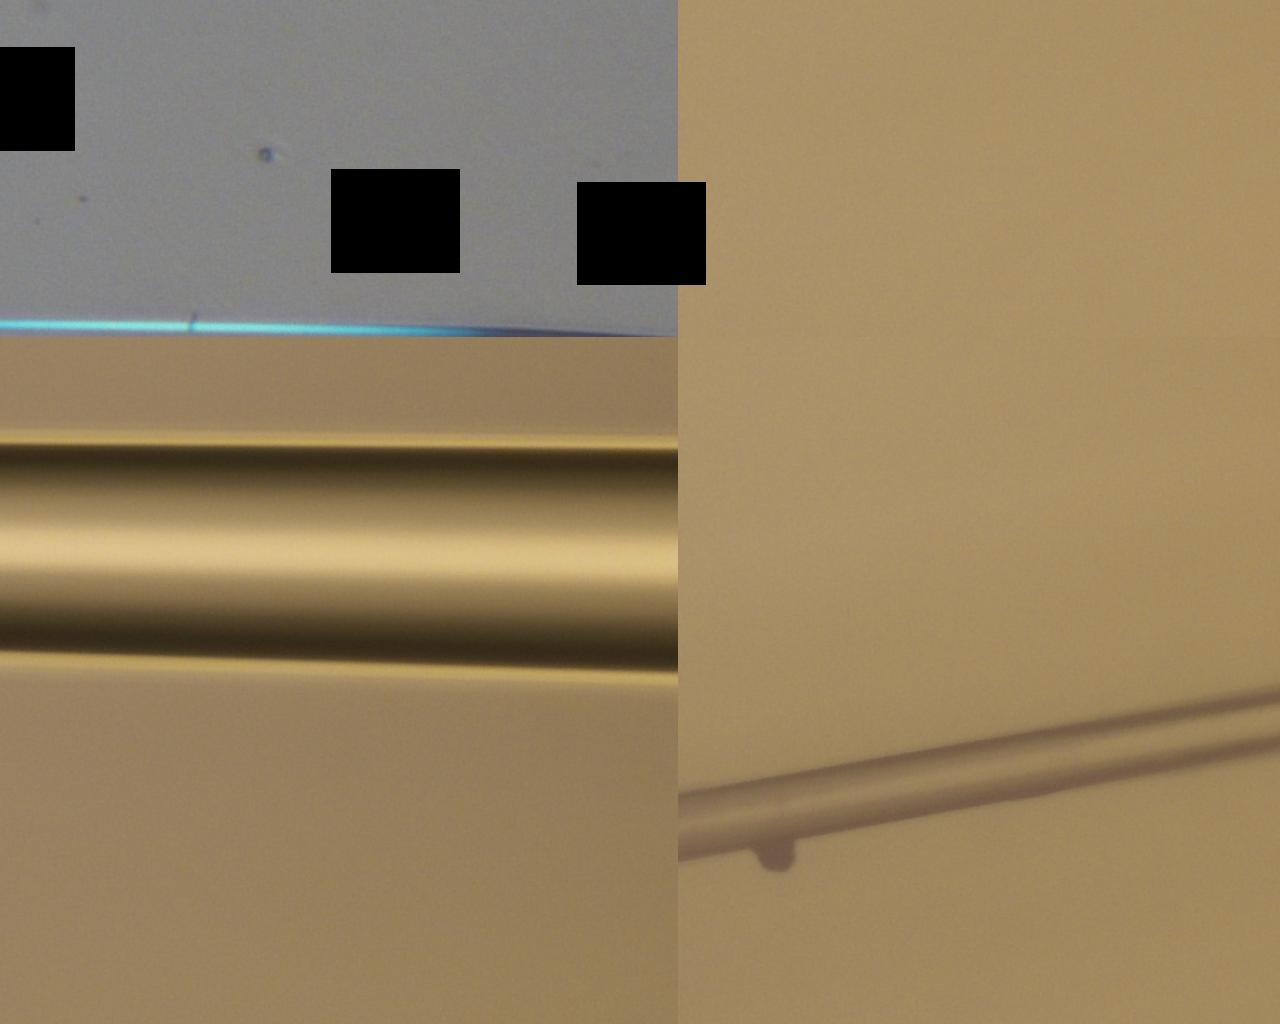fiber: (0, 438, 678, 676), (678, 686, 1280, 865), (0, 317, 673, 338)
